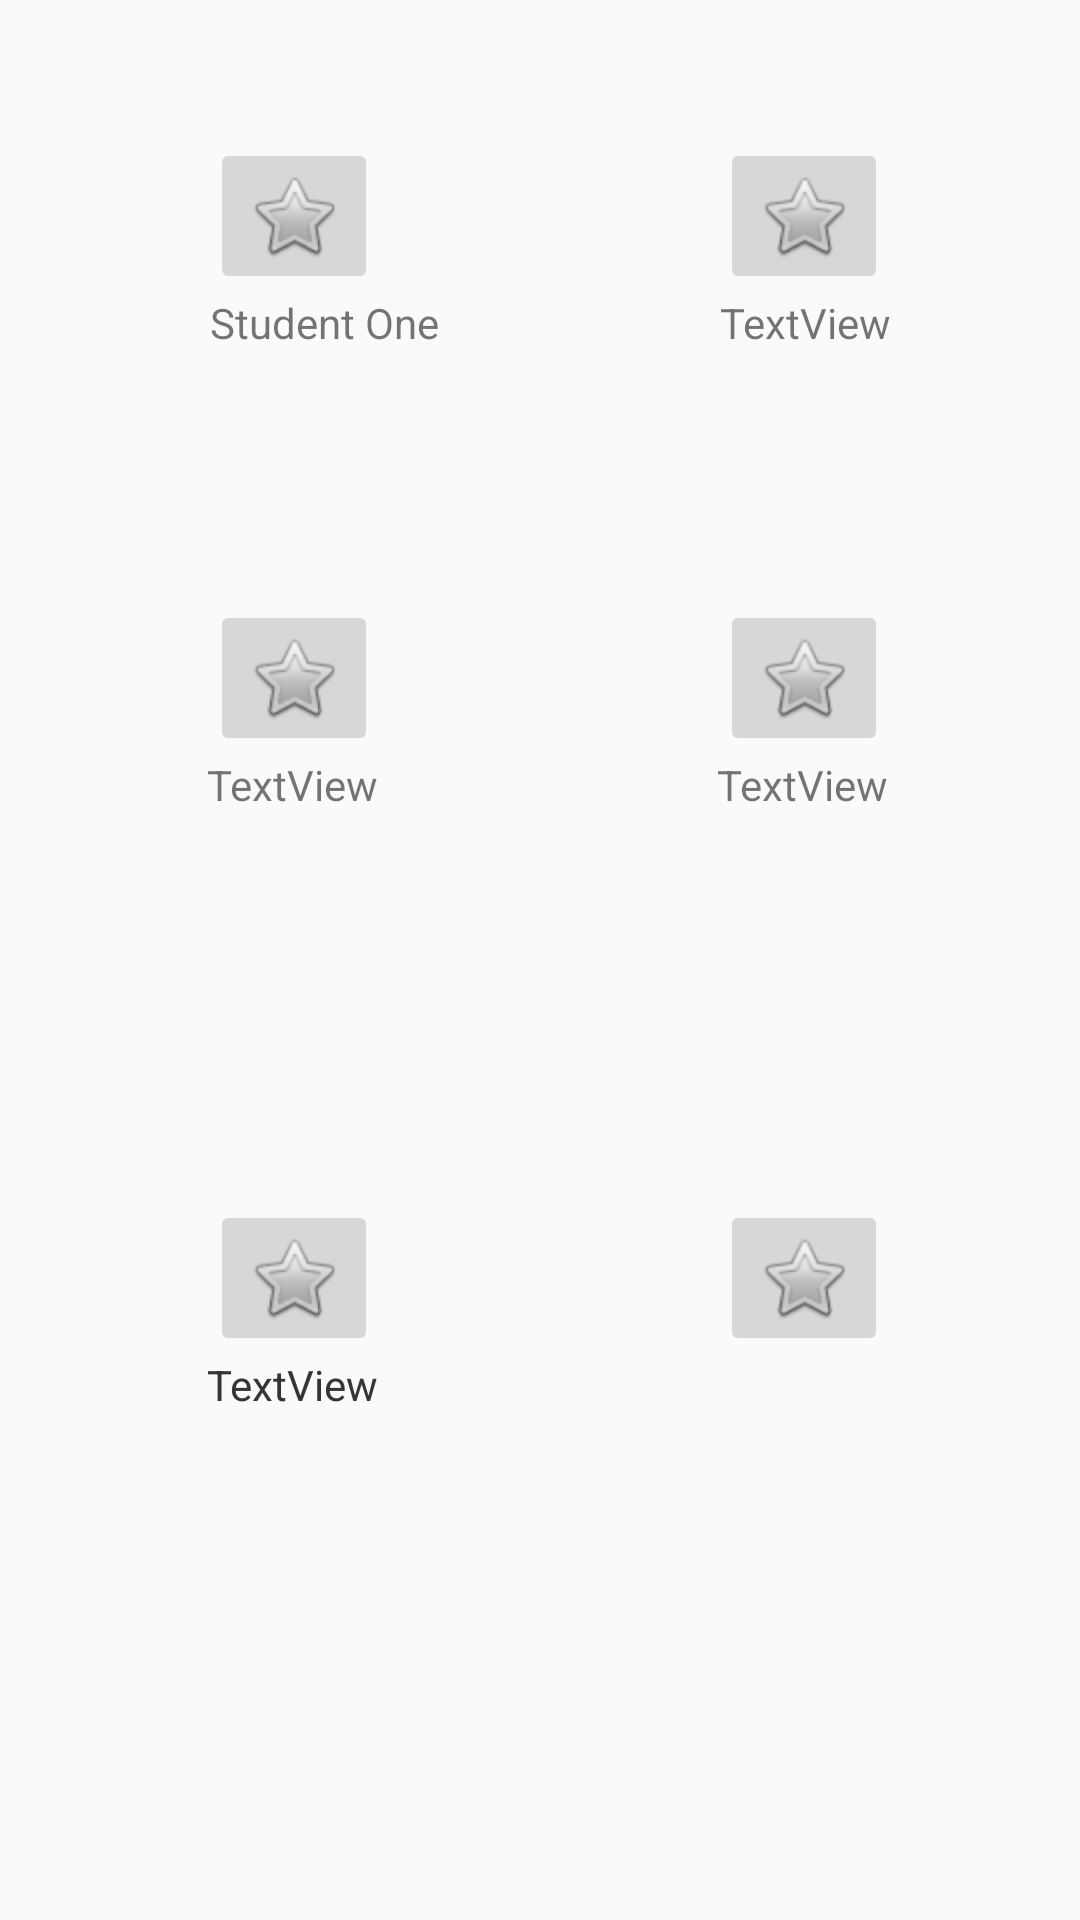

Icon click points for this 1080*1920 phone screenshot, format point (x, y):
star: point (294, 216), point (804, 216), point (294, 678), point (804, 678), point (294, 1278), point (804, 1278)
